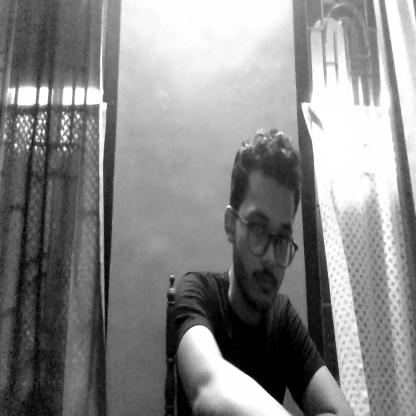Distracted: (230, 136, 295, 315)
